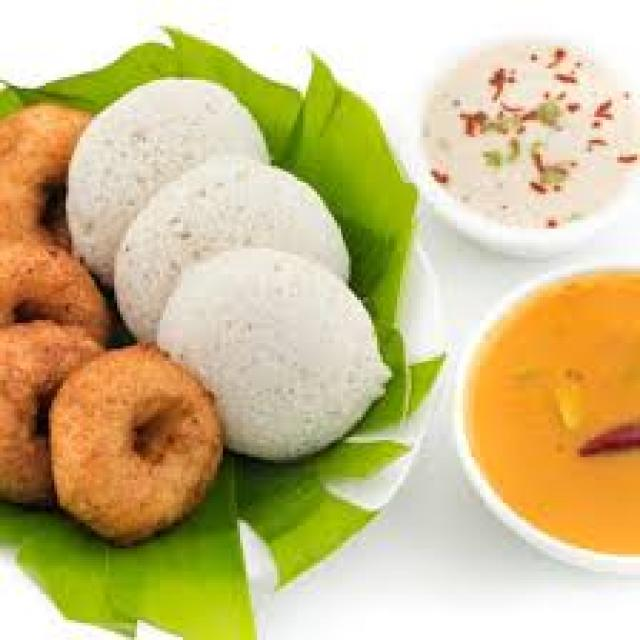IDLI: (65, 75, 391, 463)
MEDU VADA: (2, 101, 117, 502), (49, 344, 231, 542)
